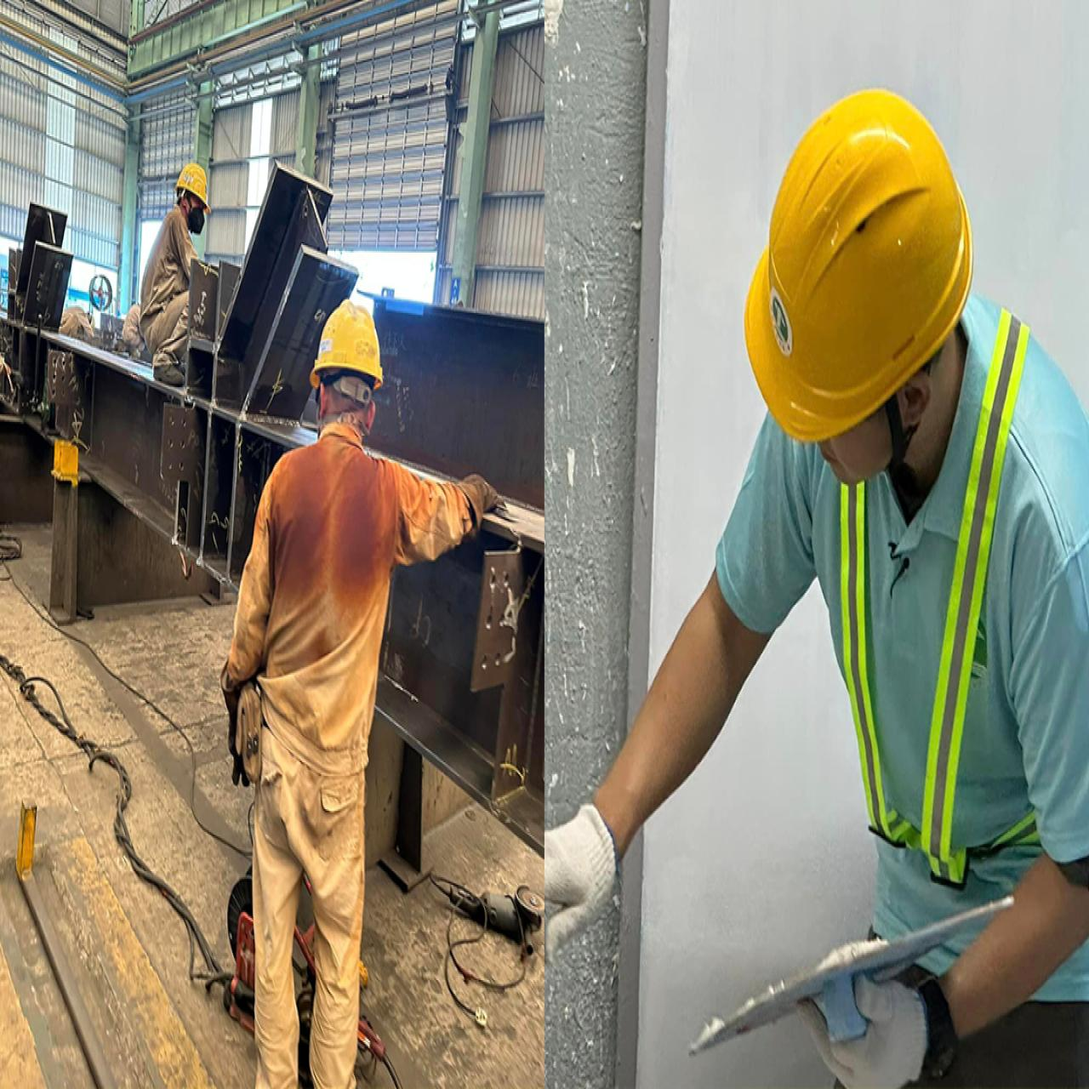NO_Safety_Vest: (773, 343, 1089, 919), (256, 446, 403, 784), (137, 212, 192, 311)
Person: (543, 42, 1089, 1088), (215, 274, 514, 1089), (129, 146, 213, 386)
